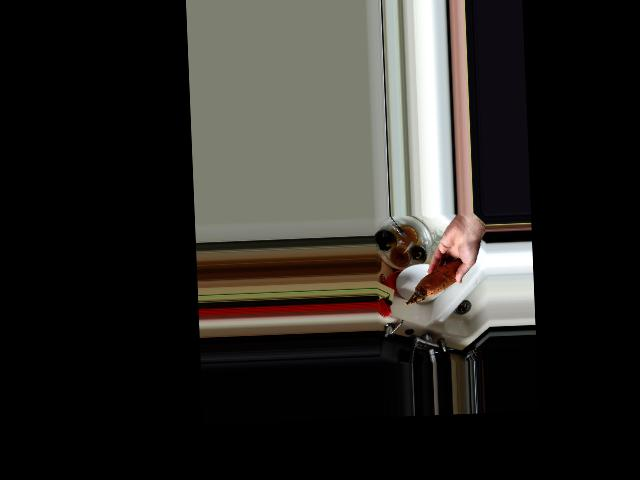sweet_potato: (402, 254, 468, 305)
